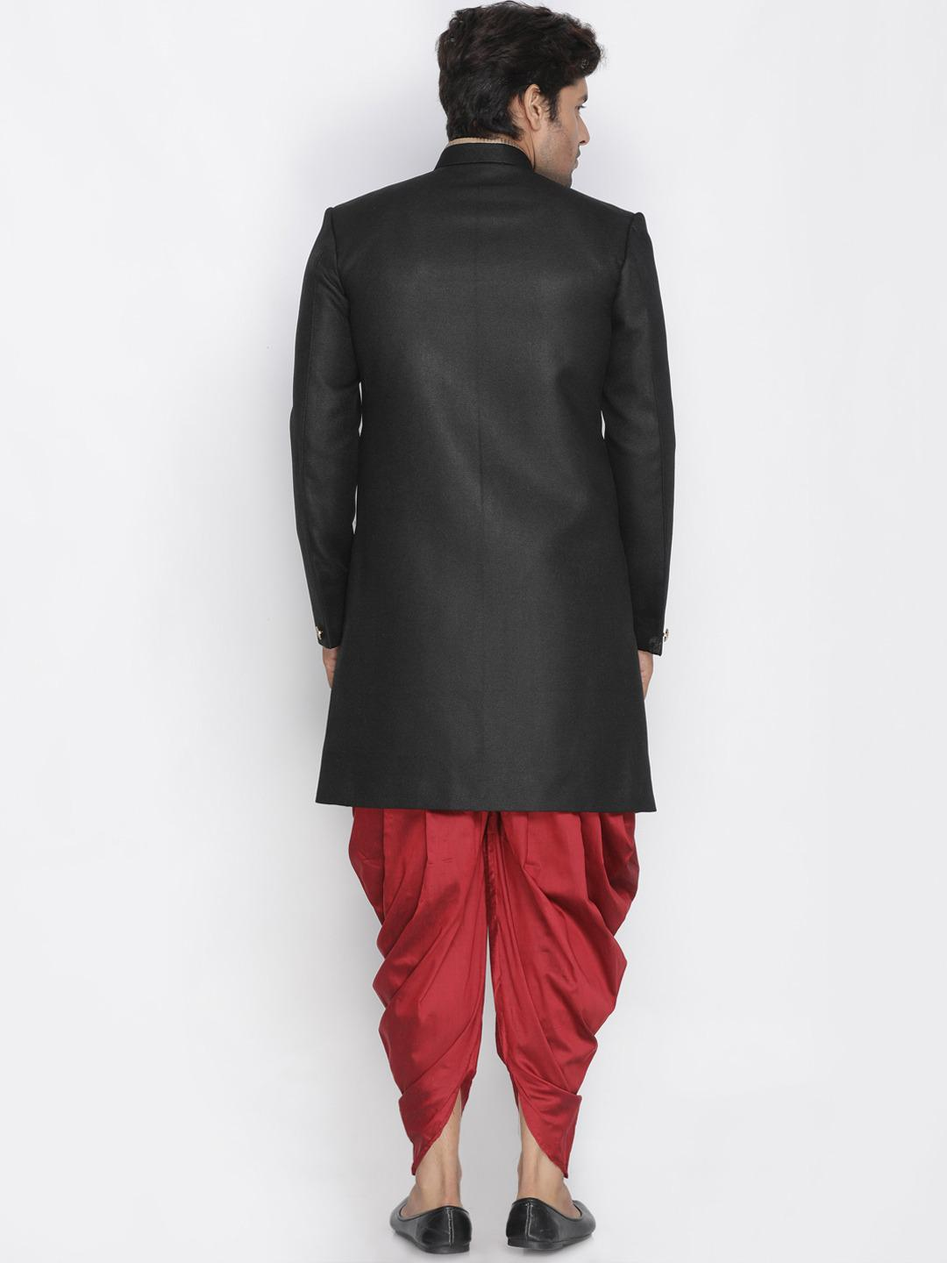Plain Sherwani: (285, 142, 680, 819)
